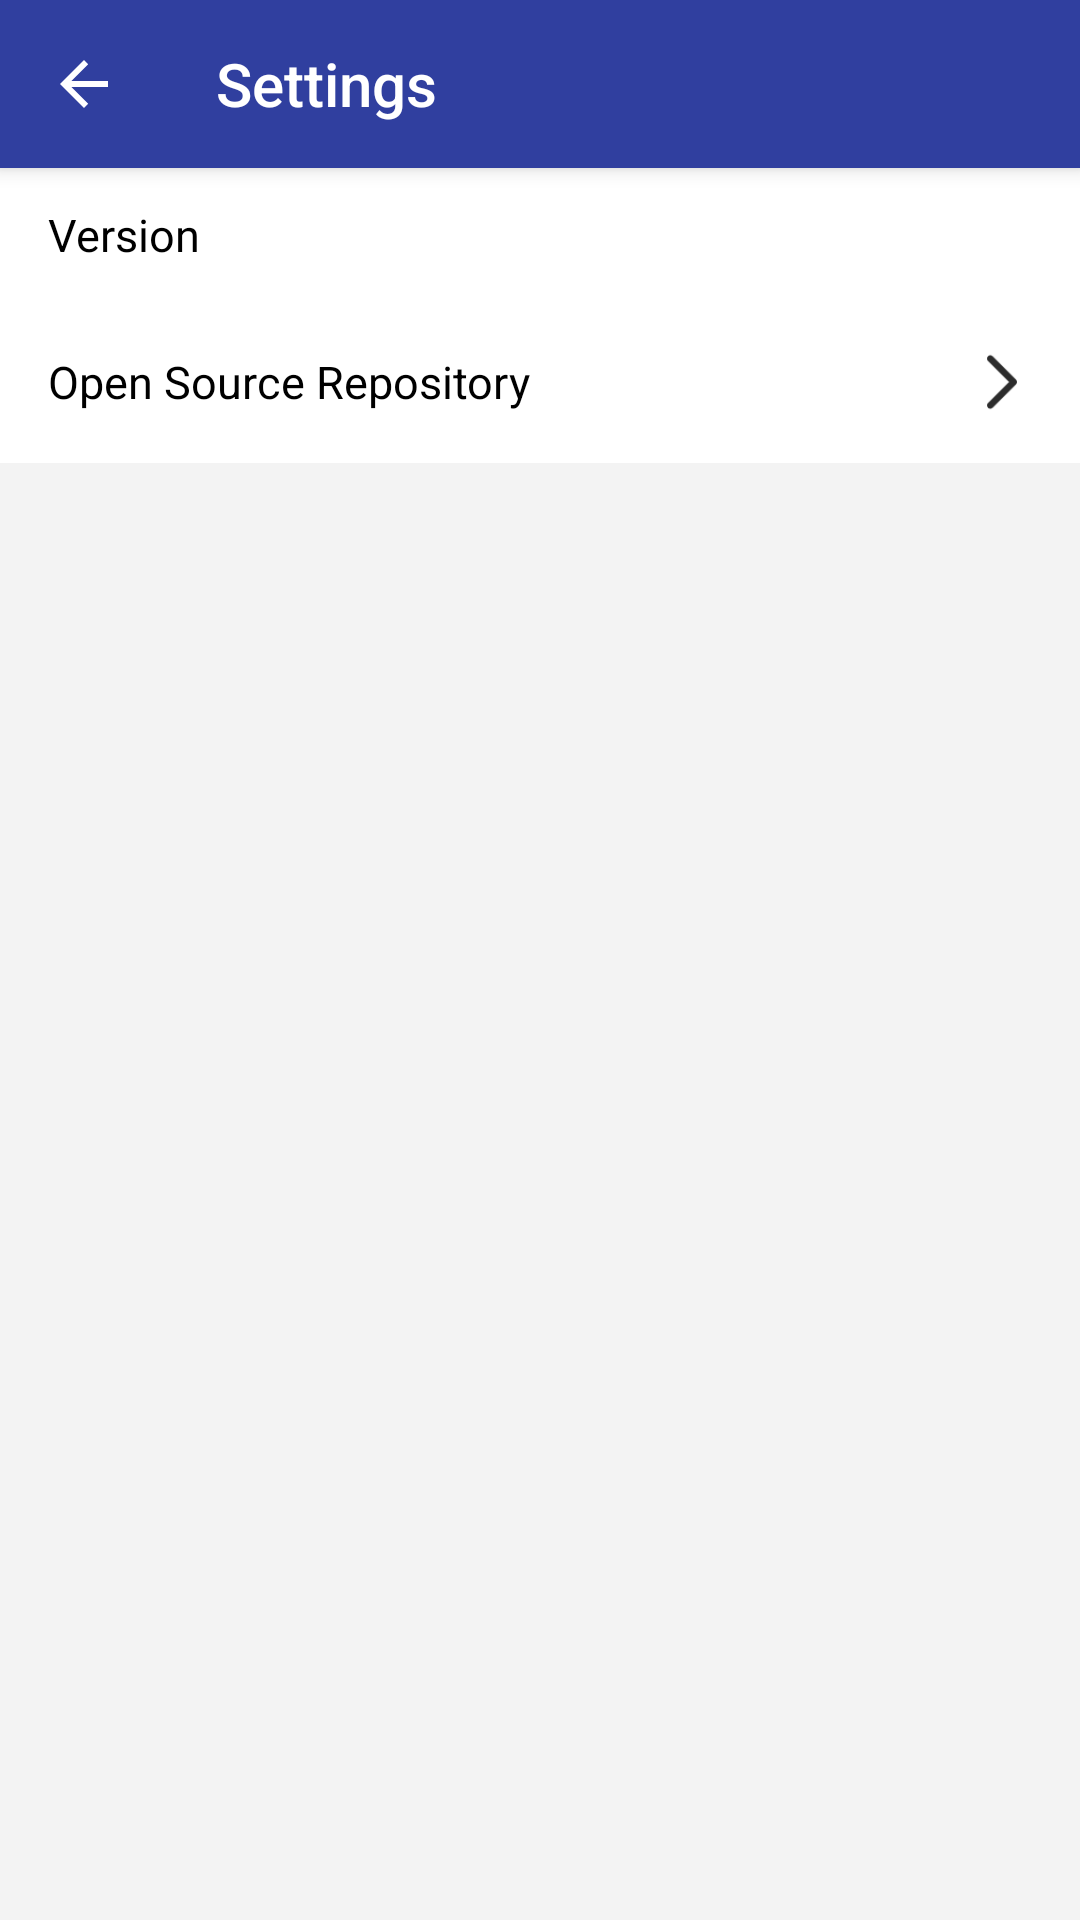

Icons on this 1080×1920 Android screen, each with its box as Rect(x1, y1, x2, y2):
arrow: Rect(987, 355, 1017, 409)
